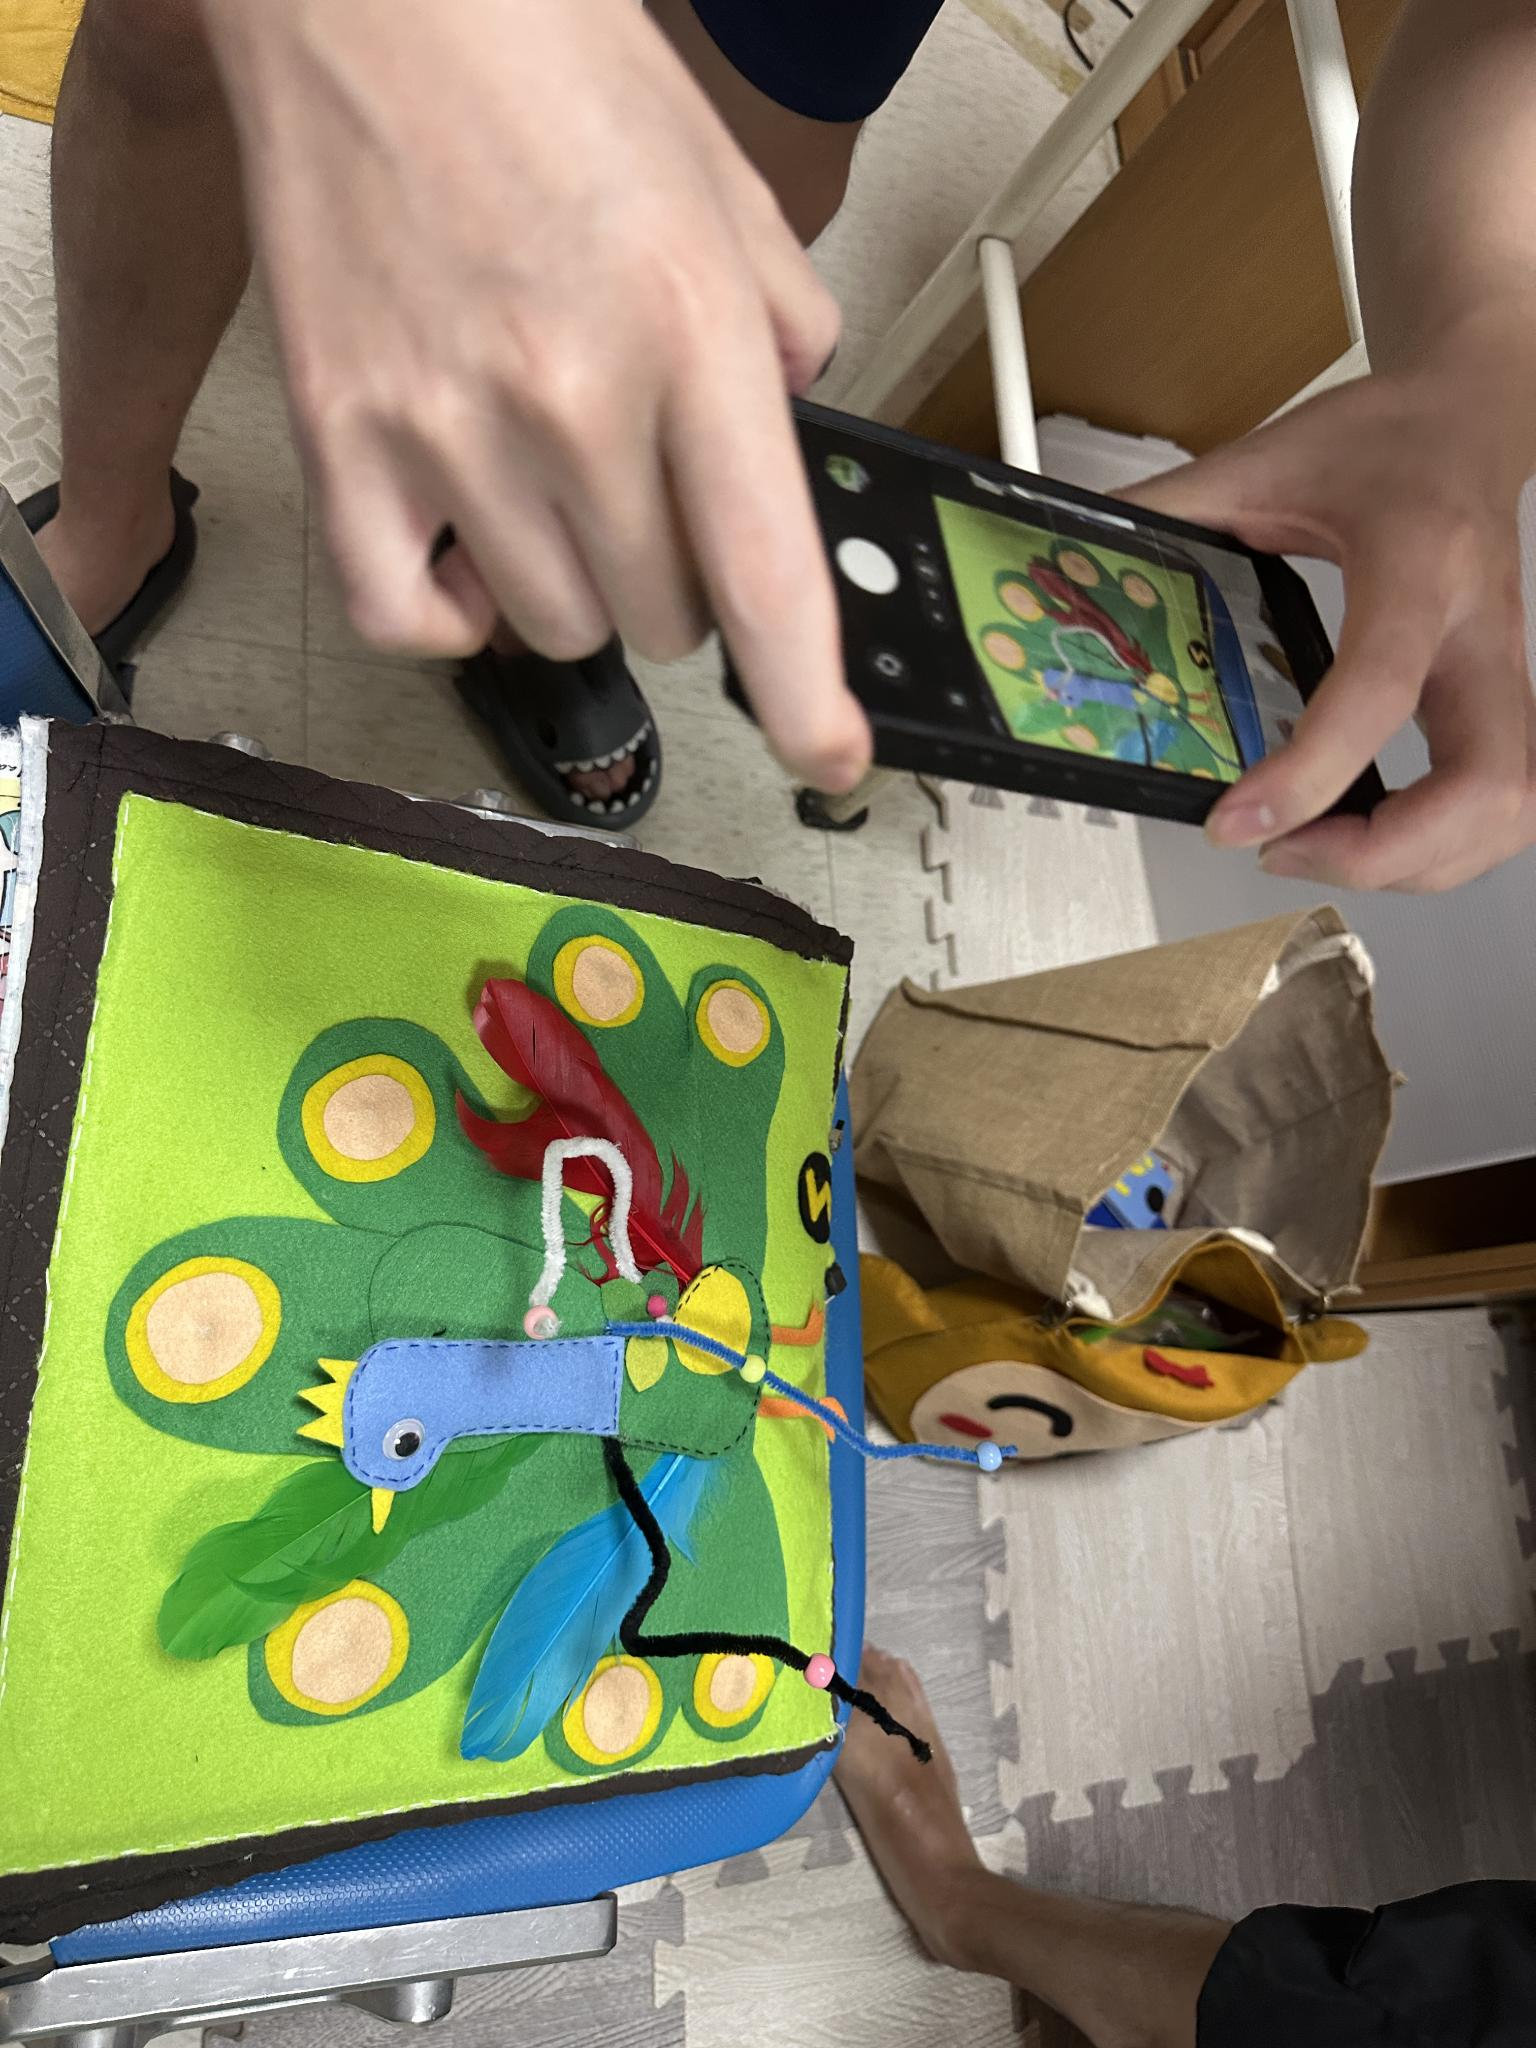bead: (960, 1424, 1049, 1482), (508, 1287, 579, 1347), (792, 1634, 845, 1708), (728, 1343, 783, 1406)
